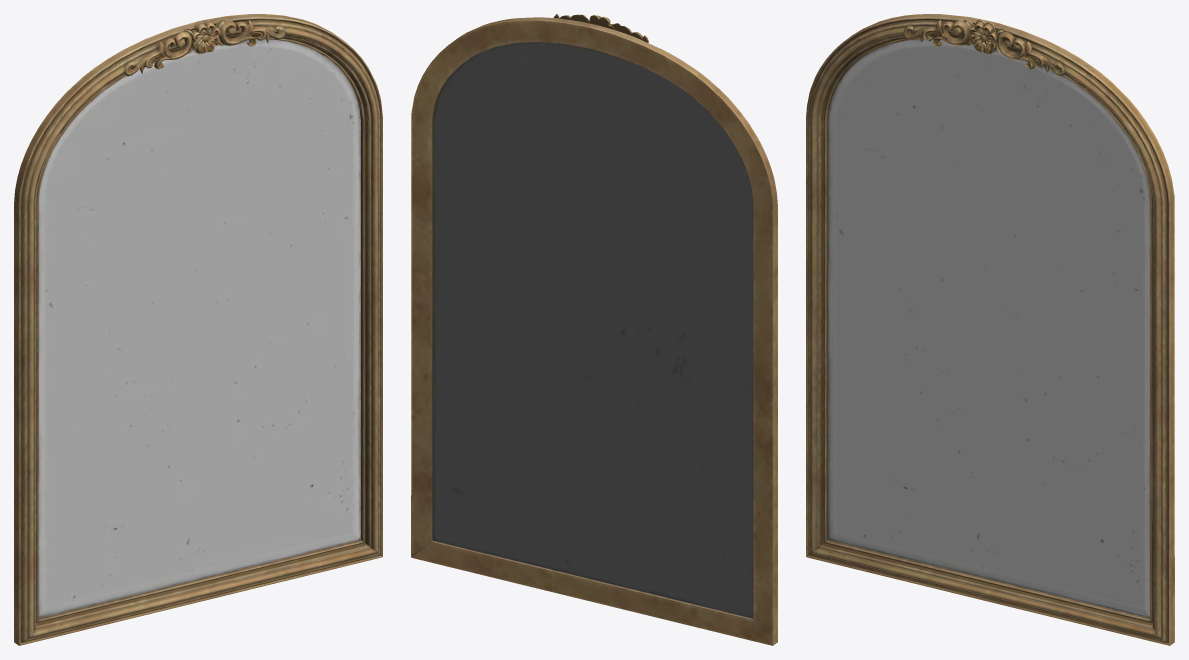
File: ornate_mirror_01.glb
3 views of the same model, side by side, from view 1: azimuth 30°, elevation 25°; view 2: azimuth 150°, elevation 25°; view 3: azimuth 330°, elevation 25° (orthographic).
Parts seen in each view (by area): view 1: ornate_mirror_01; view 2: ornate_mirror_01; view 3: ornate_mirror_01.
Boxes of the visible parts, box(x1,y1,x2,y2) form: ornate_mirror_01: box(14, 14, 382, 645); ornate_mirror_01: box(411, 14, 777, 645); ornate_mirror_01: box(806, 14, 1174, 645).
Bounding box in the file's own units: 0.4865 × 0.7442 × 0.026.
Materials: 1 (1 with a texture image).
